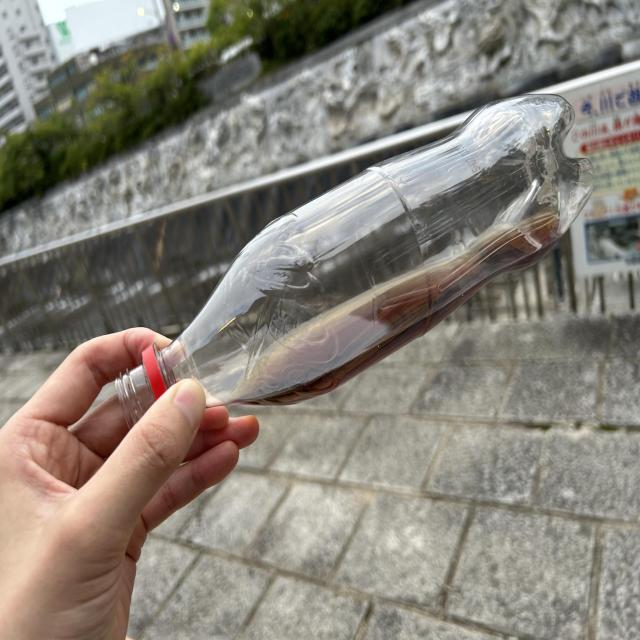low: (116, 94, 593, 428)
